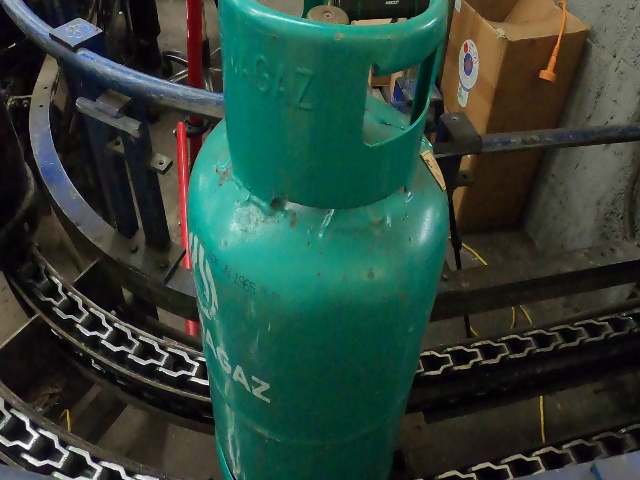gas_bottle: (3, 5, 639, 480)
